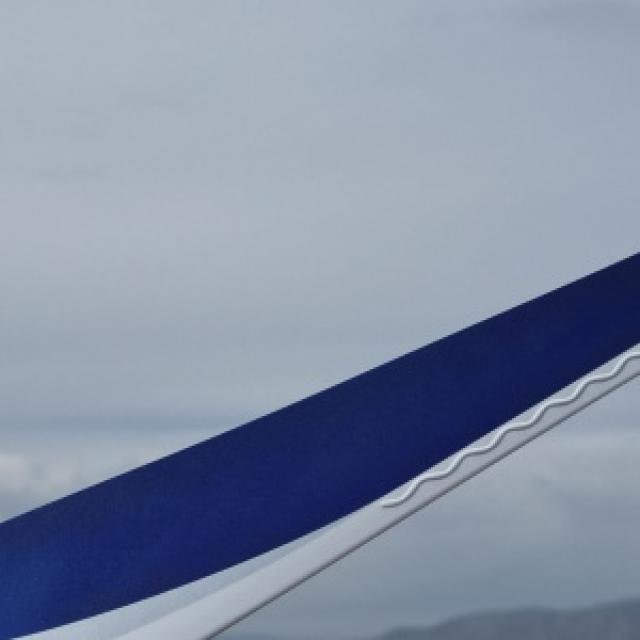healthy: (0, 254, 638, 638)
